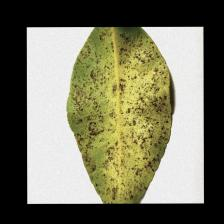canker: (84, 65, 168, 144)
